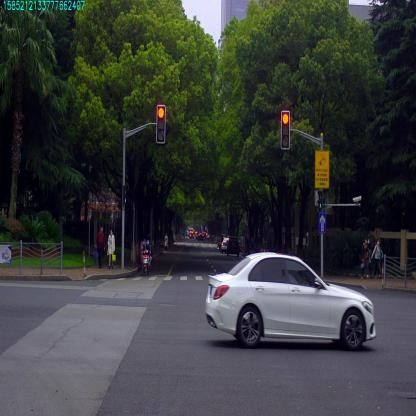traffic-light: (157, 105, 165, 142), (281, 111, 289, 148)
